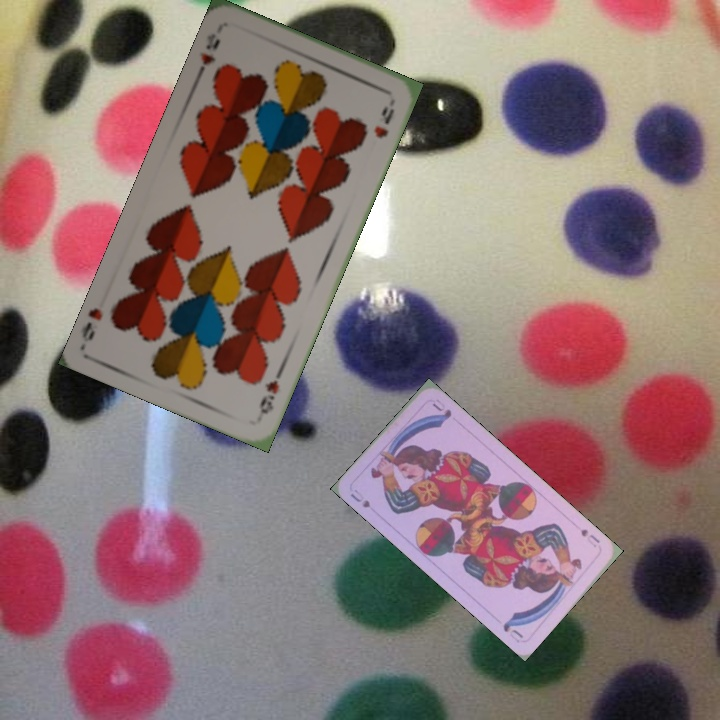H9: (192, 28, 223, 80), (254, 376, 282, 421)
SU: (346, 485, 373, 510), (576, 525, 602, 550)
